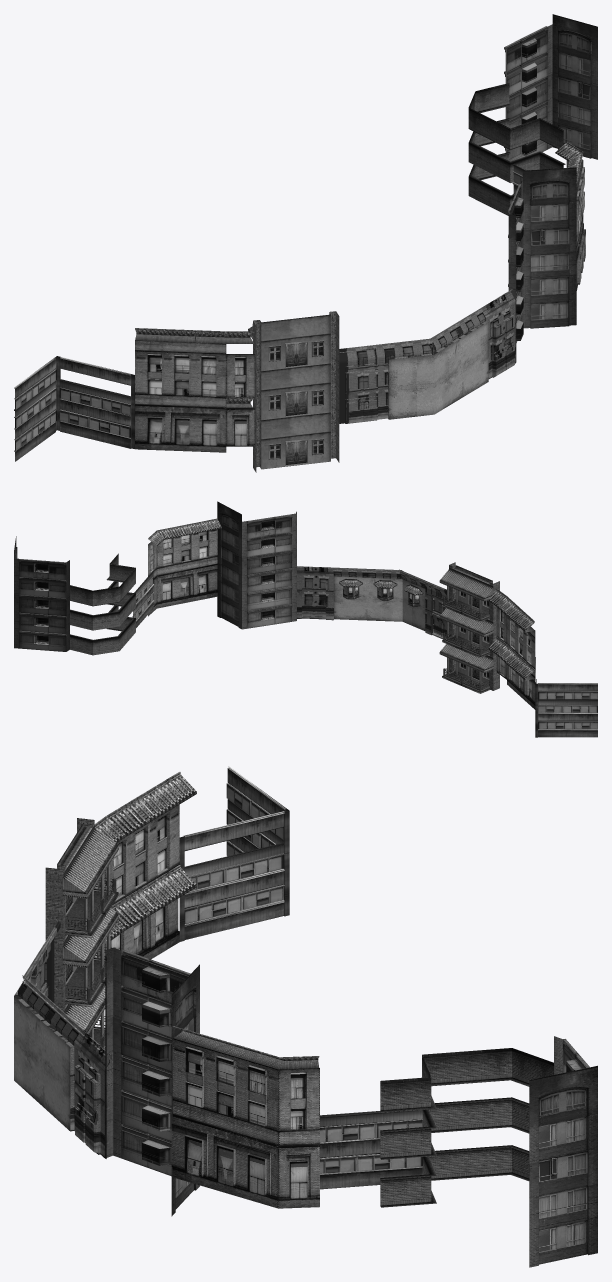
Rendered from chiantown_block_3.fbx.
The picture shows the model from 3 angles, top to bottom: view 1: azimuth 30°, elevation 25°; view 2: azimuth 150°, elevation 25°; view 3: azimuth 270°, elevation 25°; orthographic projection. The views are drawn at different scales.
Parts seen in each view (by area): view 1: chinatown_building_005, chinatown_building_009, chinatown_building_8, Plane287, Object, Plane260, Plane173, Plane258, Plane259, Plane270, Plane271, Plane280 (+7 smaller); view 2: chinatown_building_005, chinatown_building_009, Plane161, chinatown_building_8, Plane173, Plane287, Plane189, Plane260, Plane258, Plane259, Object, Plane270 (+6 smaller); view 3: Plane161, chinatown_building_005, chinatown_building_009, Object, Plane287, Plane173, Plane260, chinatown_building_8, Plane270, Plane259, Plane190, Plane280 (+6 smaller).
Part boxes in pixels (left/top/right/bottom): chinatown_building_005: left=508, top=167, right=576, bottom=362; chinatown_building_009: left=504, top=14, right=597, bottom=161; chinatown_building_8: left=339, top=323, right=461, bottom=423; Plane287: left=14, top=356, right=134, bottom=461; Object: left=468, top=108, right=565, bottom=215; Plane260: left=248, top=311, right=339, bottom=374; Plane173: left=455, top=289, right=515, bottom=397; Plane258: left=253, top=409, right=339, bottom=472; Plane259: left=253, top=360, right=339, bottom=423; Plane270: left=135, top=350, right=226, bottom=397; Plane271: left=135, top=404, right=226, bottom=446; Plane280: left=135, top=328, right=254, bottom=343; chinatown_building_005: left=217, top=501, right=296, bottom=629; chinatown_building_009: left=14, top=536, right=69, bottom=651; Plane161: left=148, top=529, right=217, bottom=616; chinatown_building_8: left=367, top=569, right=446, bottom=639; Plane173: left=297, top=566, right=368, bottom=620; Plane287: left=535, top=657, right=597, bottom=737; Plane189: left=70, top=585, right=119, bottom=655; Plane260: left=439, top=562, right=499, bottom=622; Plane258: left=439, top=636, right=499, bottom=693; Plane259: left=439, top=608, right=496, bottom=657; Object: left=106, top=553, right=135, bottom=650; Plane270: left=507, top=616, right=535, bottom=669; Plane161: left=171, top=1038, right=319, bottom=1208; chinatown_building_005: left=105, top=947, right=199, bottom=1216; chinatown_building_009: left=529, top=1036, right=597, bottom=1267; Object: left=380, top=1048, right=511, bottom=1207; Plane287: left=179, top=766, right=289, bottom=941; Plane173: left=42, top=1001, right=111, bottom=1158; Plane260: left=45, top=818, right=118, bottom=938; chinatown_building_8: left=14, top=921, right=60, bottom=1105; Plane270: left=105, top=804, right=179, bottom=904; Plane259: left=45, top=908, right=118, bottom=1007; Plane190: left=320, top=1110, right=422, bottom=1157; Plane280: left=94, top=771, right=196, bottom=842.
Size of the model in its own units: 7716 by 2199 by 4012.
